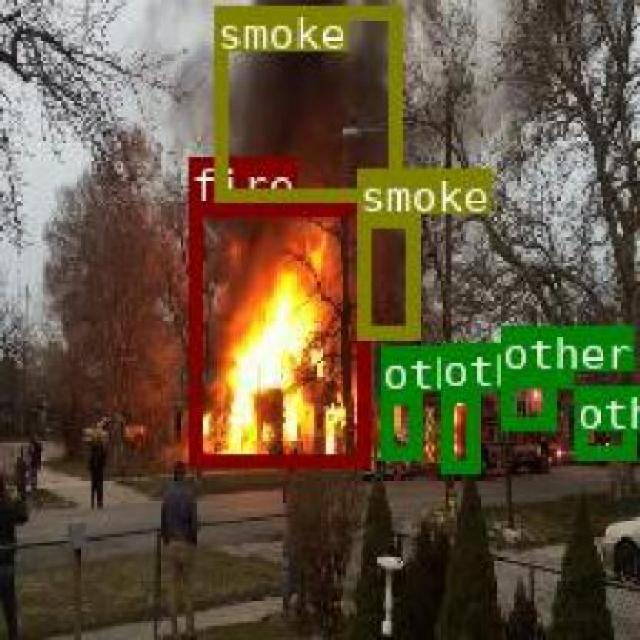Fire: (188, 200, 368, 466)
Smoke: (212, 5, 398, 198), (356, 212, 418, 336)
